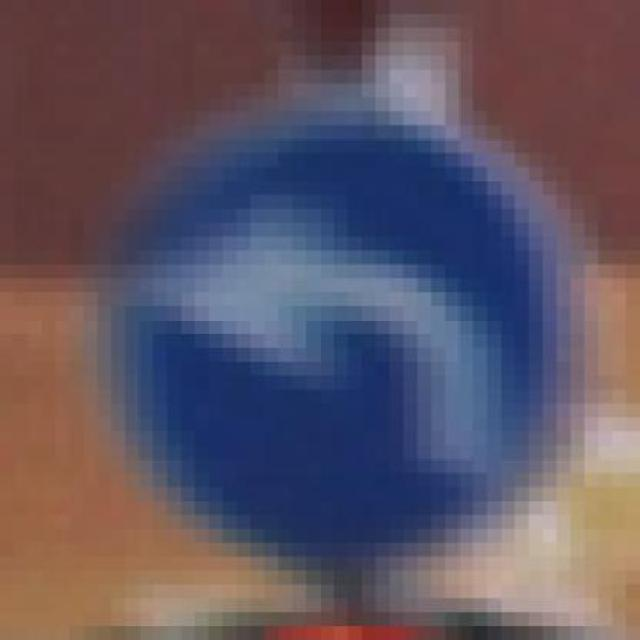Turn left ahead: (97, 83, 598, 571)
